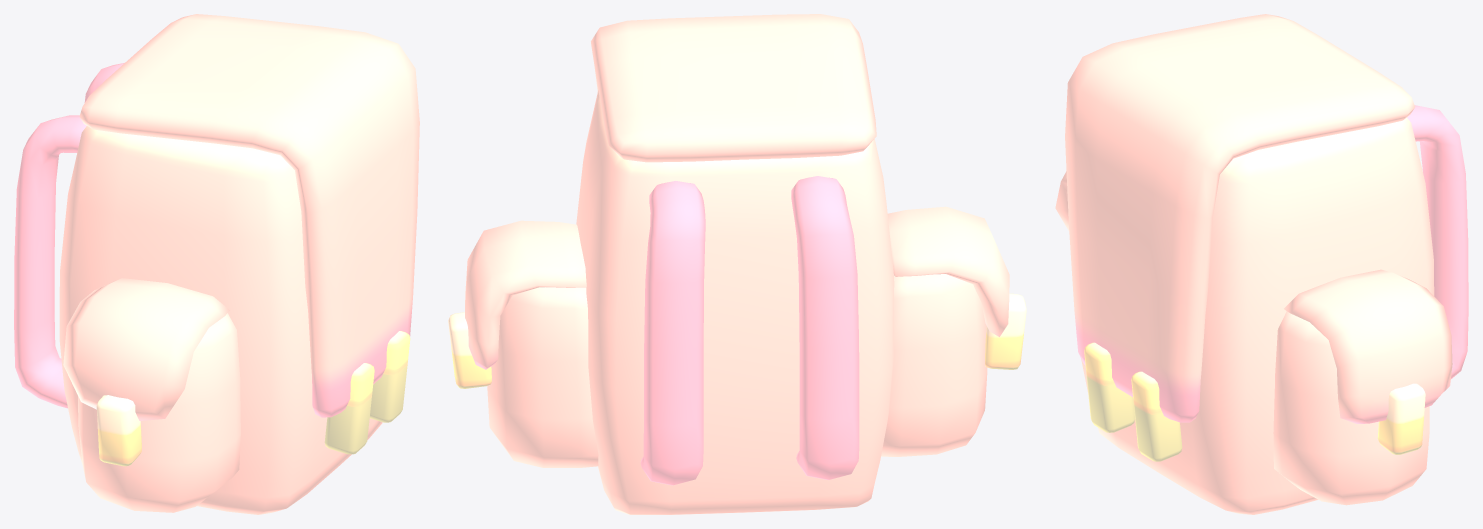
Rendered from bag.gltf.
3 views of the same model, side by side, from view 1: azimuth 30°, elevation 25°; view 2: azimuth 150°, elevation 25°; view 3: azimuth 270°, elevation 25° (orthographic). The views are drawn at different scales.
Parts seen in each view (by area): view 1: bag; view 2: bag; view 3: bag.
Boxes of the visible parts, <box> form: bag: <box>14,14,419,514</box>; bag: <box>448,14,1026,514</box>; bag: <box>1055,14,1468,514</box>.
Size of the model in its own units: 0.6428 by 0.5745 by 0.5426.
Materials: 1 (1 with a texture image).
